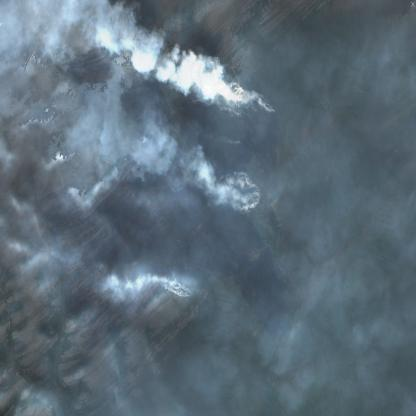fire: (207, 64, 277, 230), (164, 276, 201, 310)
